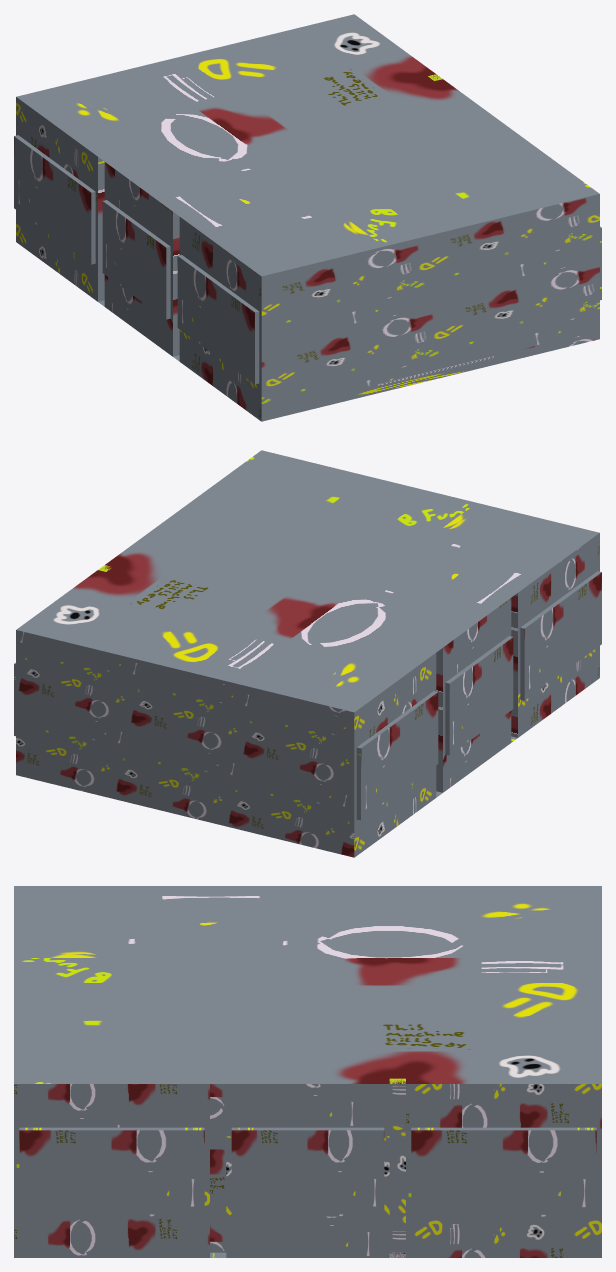
Rendered from StandUpBuilding.fbx.
3 renders of one model, top to bottom at view 1: azimuth 30°, elevation 25°; view 2: azimuth 150°, elevation 25°; view 3: azimuth 270°, elevation 25°, orthographic. The views are drawn at different scales.
Parts seen in each view (by area): view 1: Cube.001, Cube.004, Cube.002; view 2: Cube.001, Cube.004; view 3: Cube.004, Cube.001.
Part boxes in pixels (bbox=[...]): Cube.001: bbox=[14, 74, 601, 421]; Cube.004: bbox=[16, 14, 599, 276]; Cube.002: bbox=[326, 346, 534, 405]; Cube.001: bbox=[14, 510, 601, 857]; Cube.004: bbox=[16, 450, 599, 712]; Cube.004: bbox=[14, 886, 601, 1083]; Cube.001: bbox=[14, 886, 601, 1257].
Size of the model in its own units: 8000 by 3200 by 9800.
Materials: 8 (7 with a texture image).
